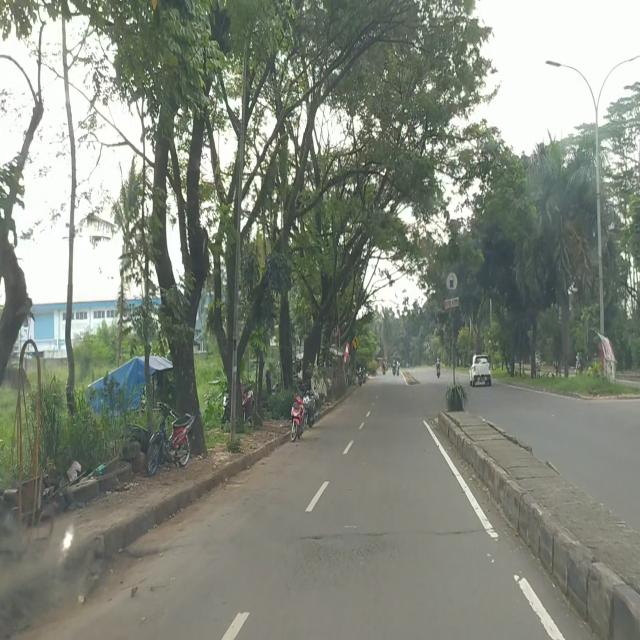Sewer Cover: (295, 526, 486, 551)
